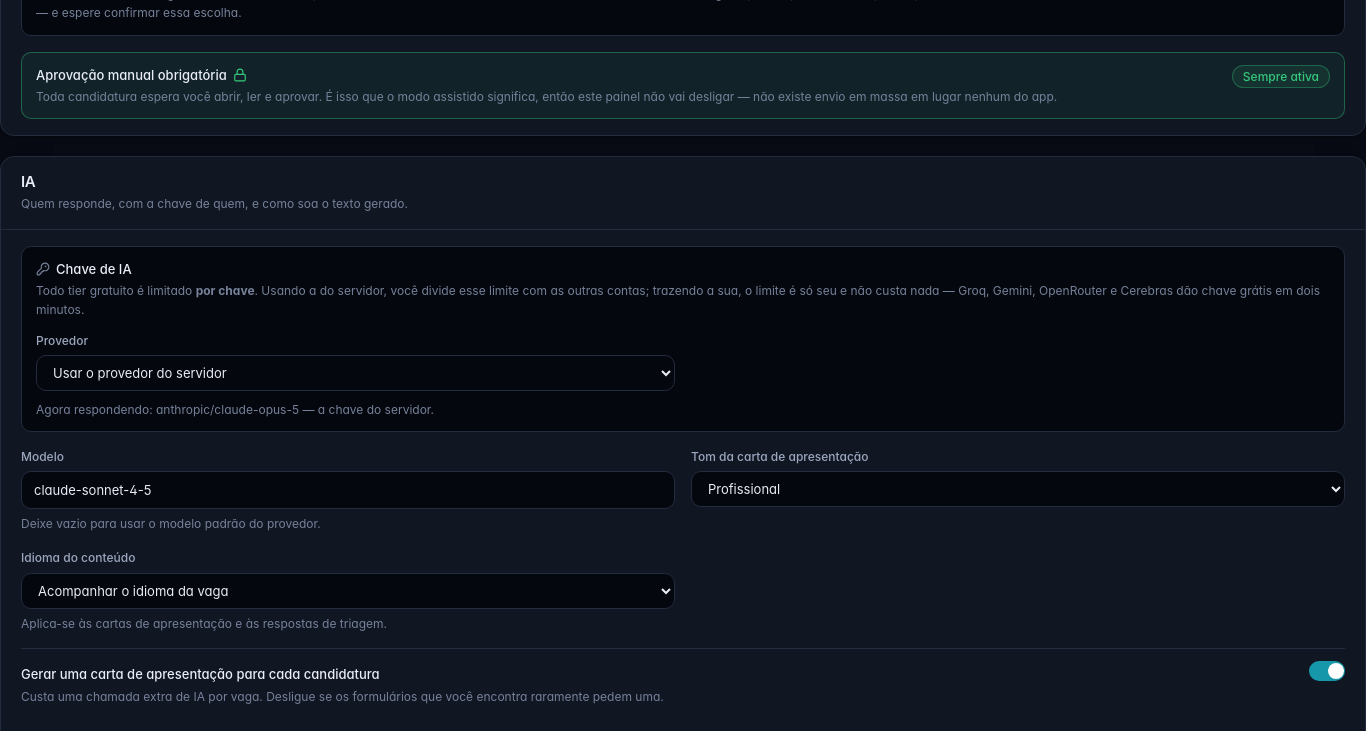
Test case: the AI key an account brings › tests a key without saving it
This screenshot has width=1366, height=731.
(page scrolled)
Select "Groq" in the dropdown labelled "Provedor" at point(356, 373), box 36,355 -> 675,391
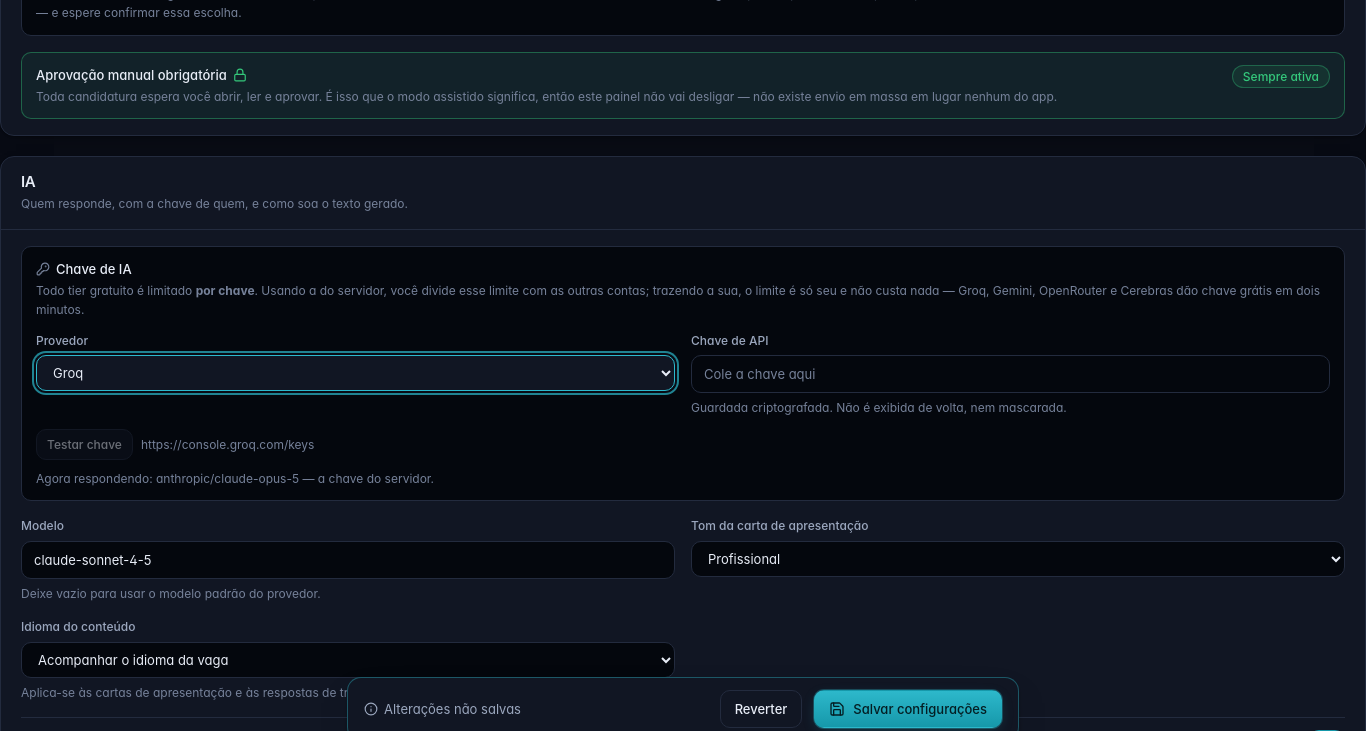
Type "gsk-try-me" into the password field labelled "Chave de API" at point(1010, 374), box 691,355 -> 1330,393
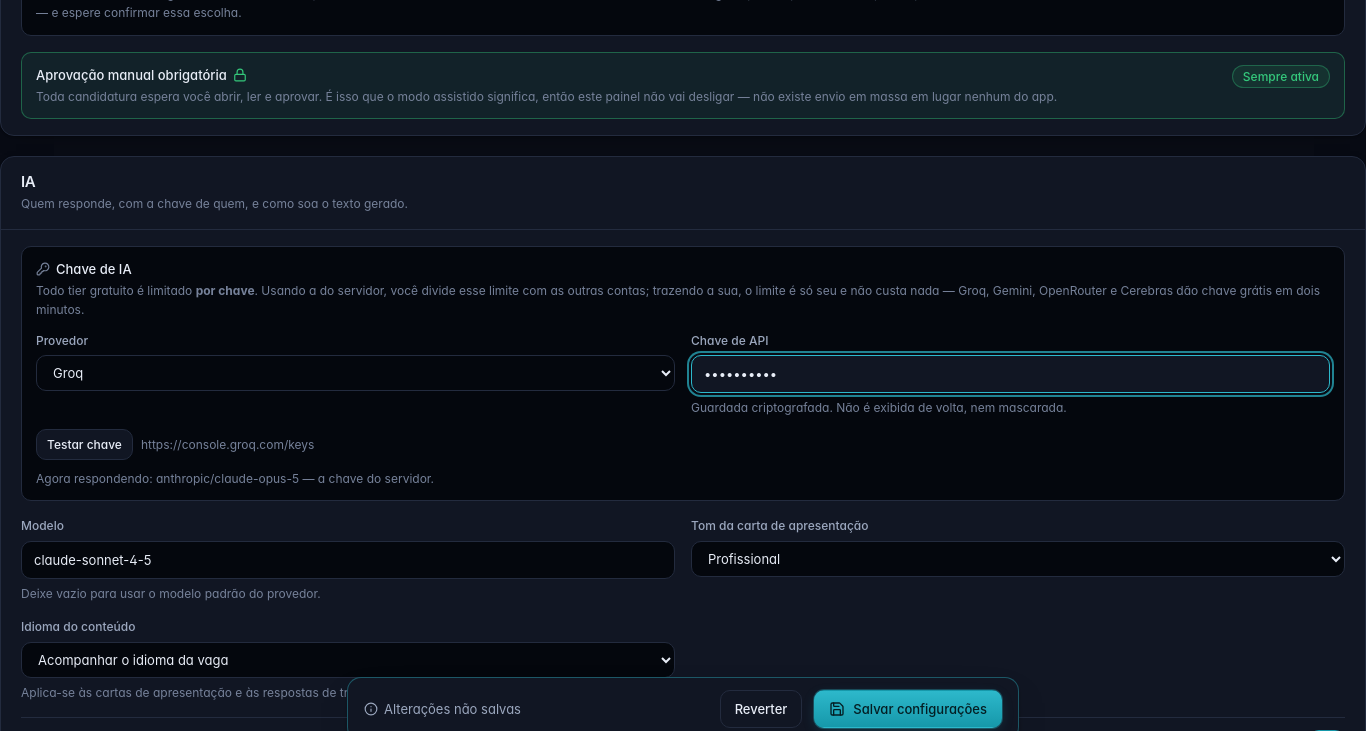
Click the button "Testar chave" at point(84, 445), box 36,429 -> 133,460
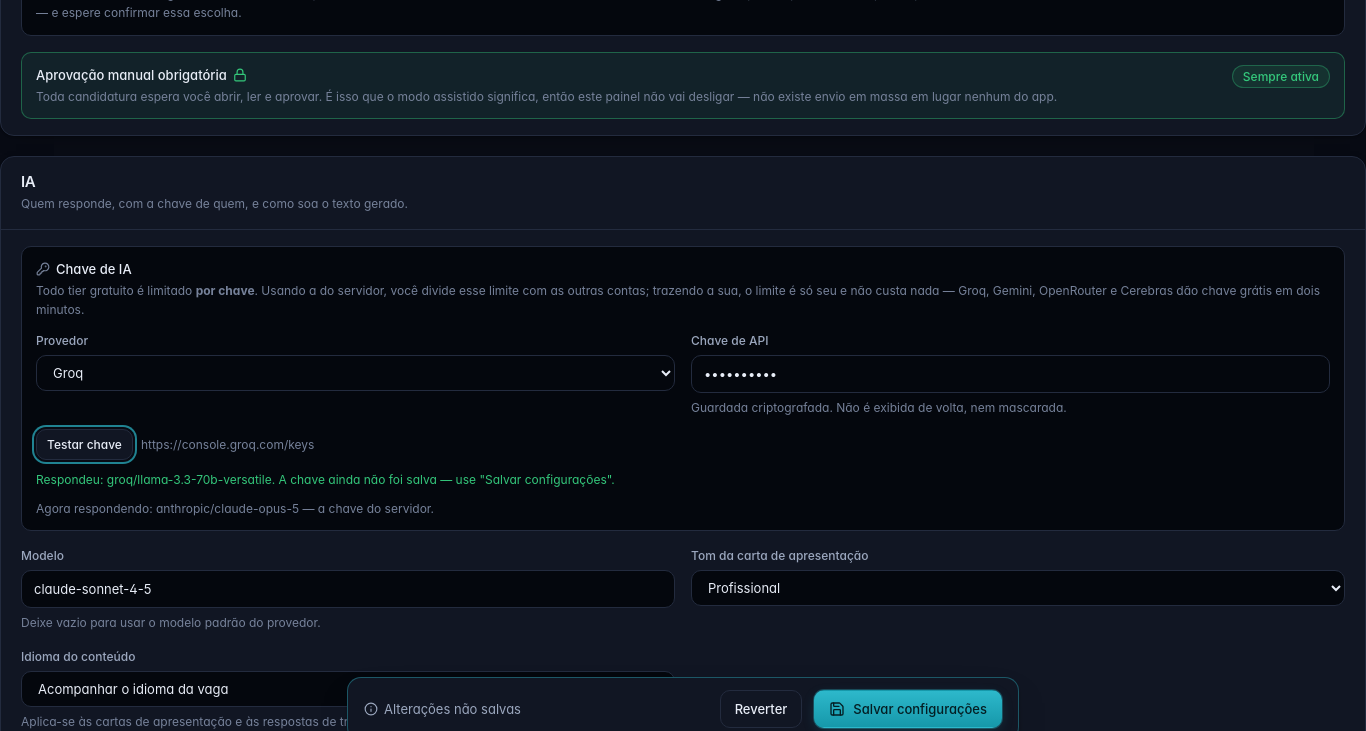
Check: the text "ainda não foi salva" is shown, box 36,472 -> 615,487
